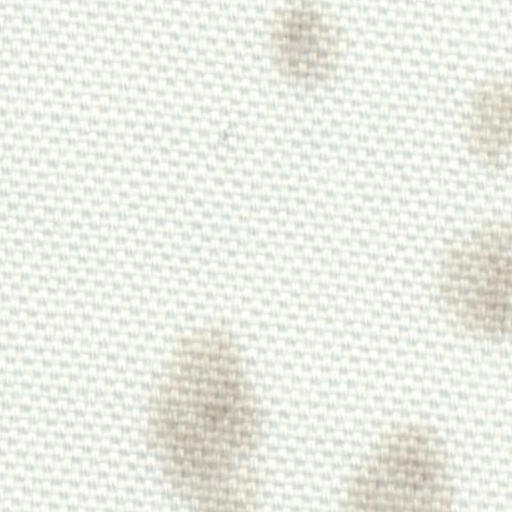WuZi: (128, 308, 273, 504), (324, 416, 468, 506), (420, 206, 508, 350), (440, 54, 508, 178), (253, 1, 349, 88)
